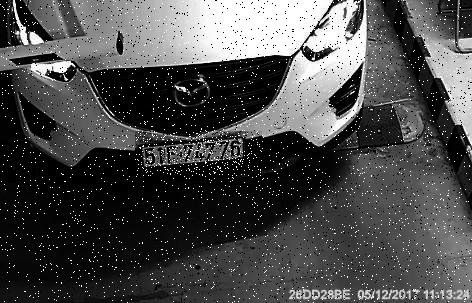License-plate: (137, 133, 265, 178)
